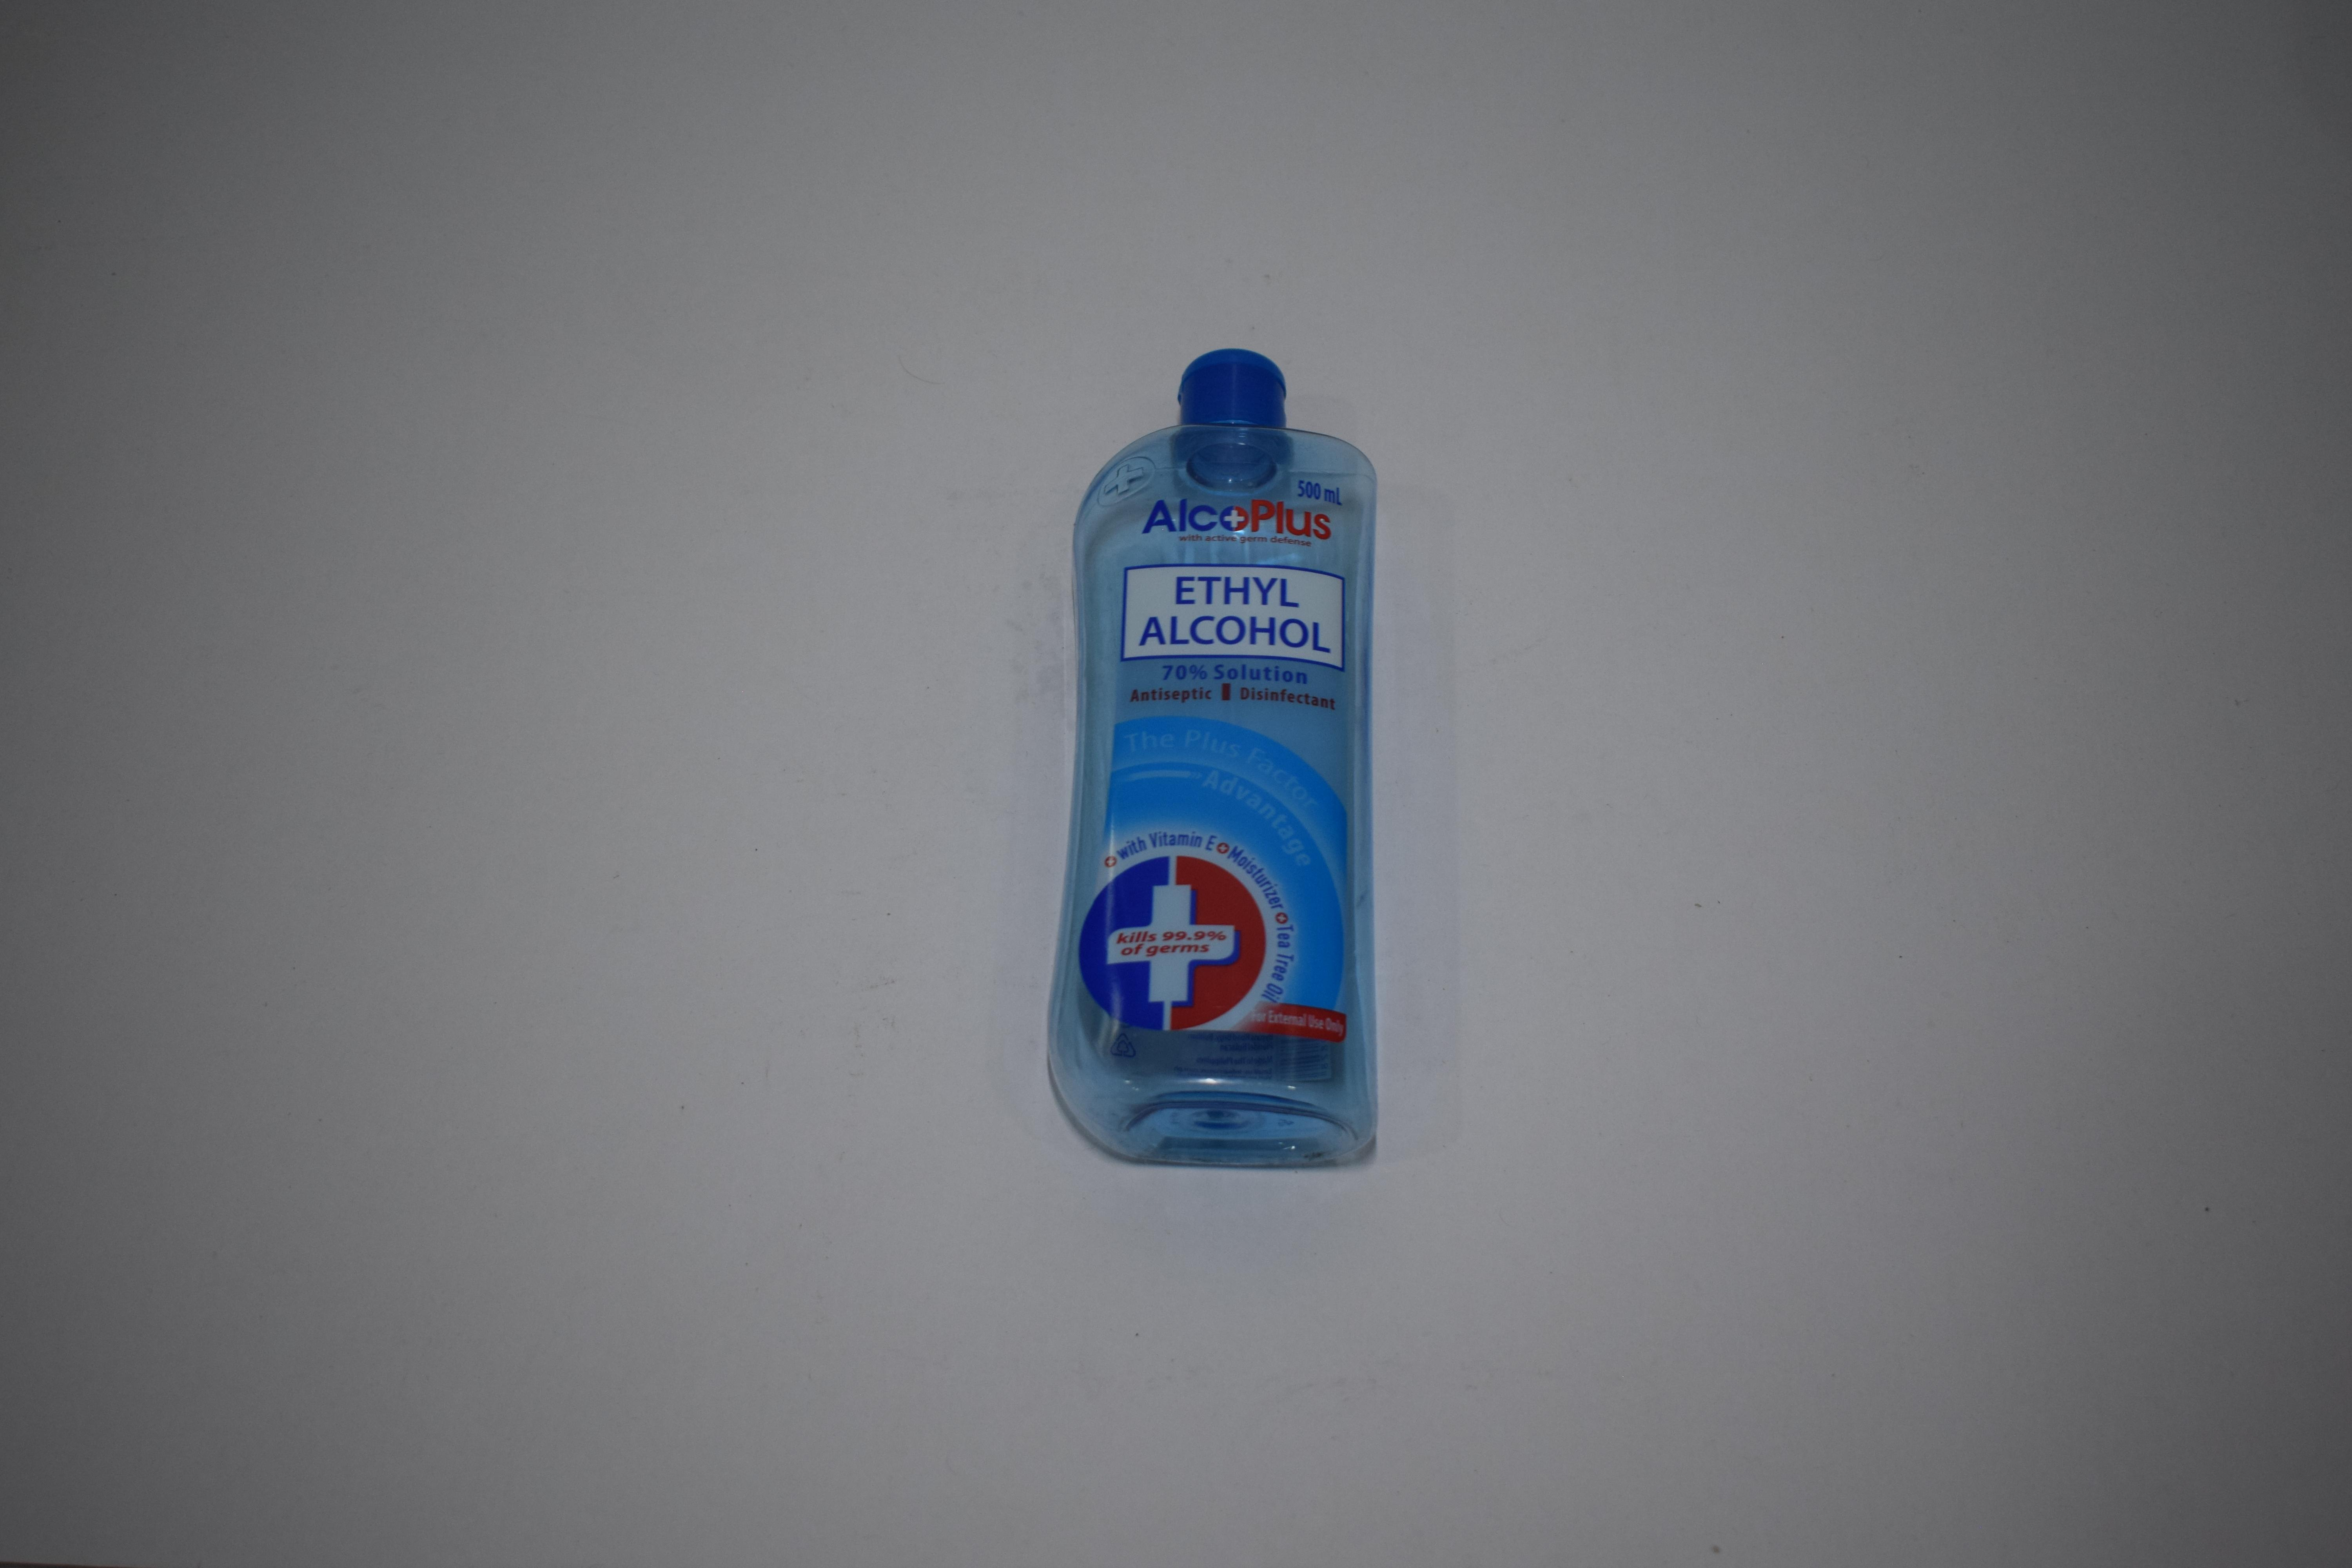bottle: (0, 730, 196, 777)
